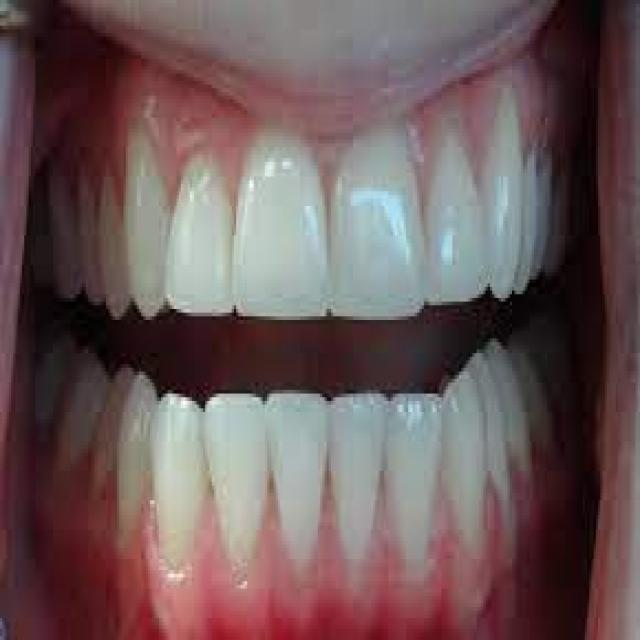tooth: (324, 121, 432, 335), (232, 114, 326, 331), (420, 118, 486, 309), (166, 158, 236, 324), (203, 393, 269, 562), (124, 132, 183, 320), (331, 386, 391, 563), (269, 387, 331, 556), (486, 338, 538, 512), (484, 96, 526, 302), (439, 379, 490, 548), (110, 364, 157, 544), (154, 390, 206, 552), (391, 394, 442, 556), (42, 121, 82, 324), (75, 357, 135, 485), (470, 346, 514, 515), (46, 353, 106, 460), (497, 338, 545, 471), (97, 143, 128, 331), (512, 320, 556, 445), (29, 327, 75, 423), (534, 144, 561, 284), (547, 151, 574, 276), (80, 154, 97, 328), (516, 147, 534, 302)
